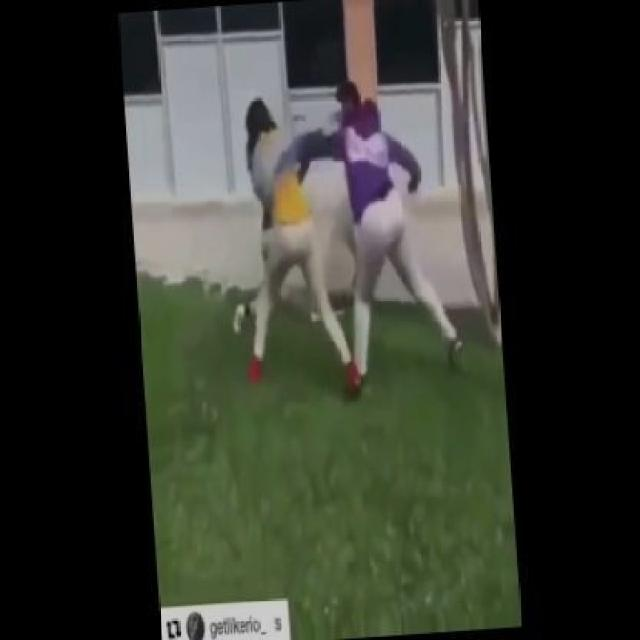fight: (223, 77, 465, 400)
